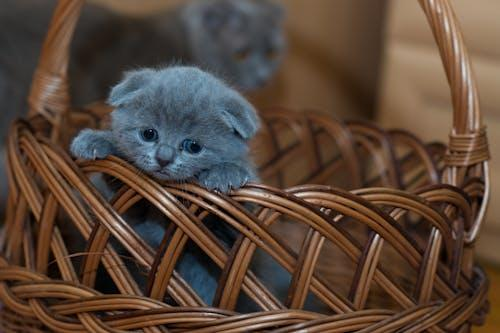kedo: (73, 69, 256, 188)
